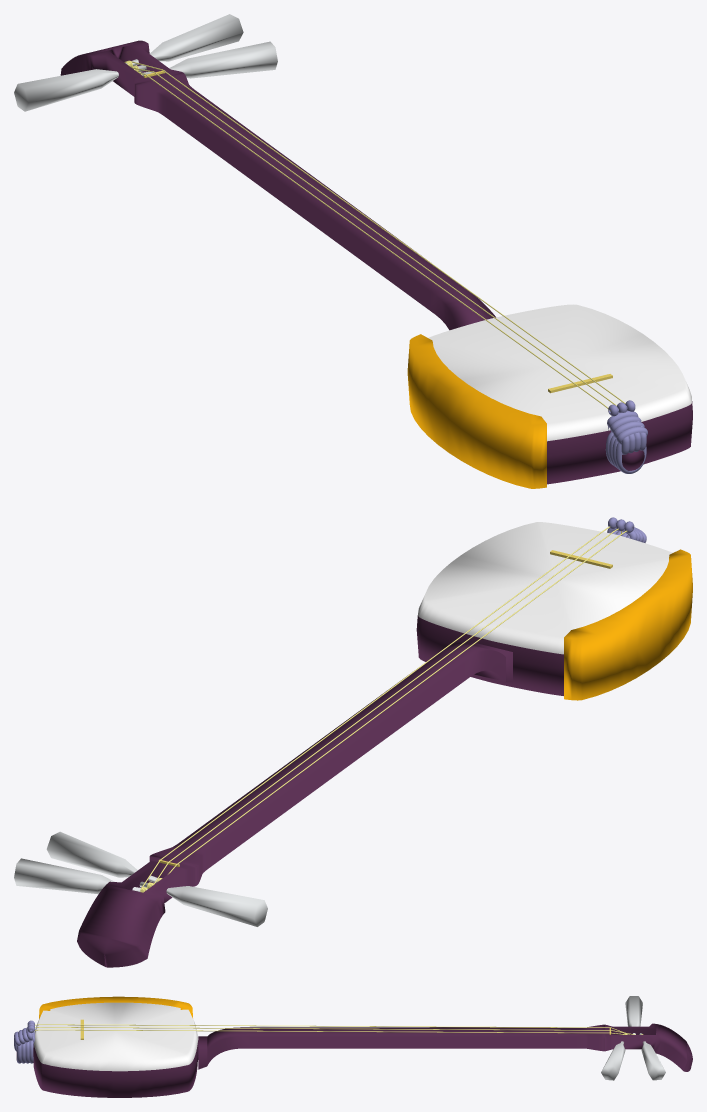
Rendered from Shamisen.fbx.
3 views of the same model, one above another, from view 1: azimuth 30°, elevation 25°; view 2: azimuth 150°, elevation 25°; view 3: azimuth 270°, elevation 25° (orthographic). The views are drawn at different scales.
Visible parts, largest first — view 1: Cylinder.001; view 2: Cylinder.001; view 3: Cylinder.001.
Part boxes in pixels (x1,y1,x2,y2): Cylinder.001: [14, 14, 692, 488]; Cylinder.001: [14, 517, 692, 967]; Cylinder.001: [14, 996, 692, 1097].
Size of the model in its own units: 186 by 55.38 by 754.
